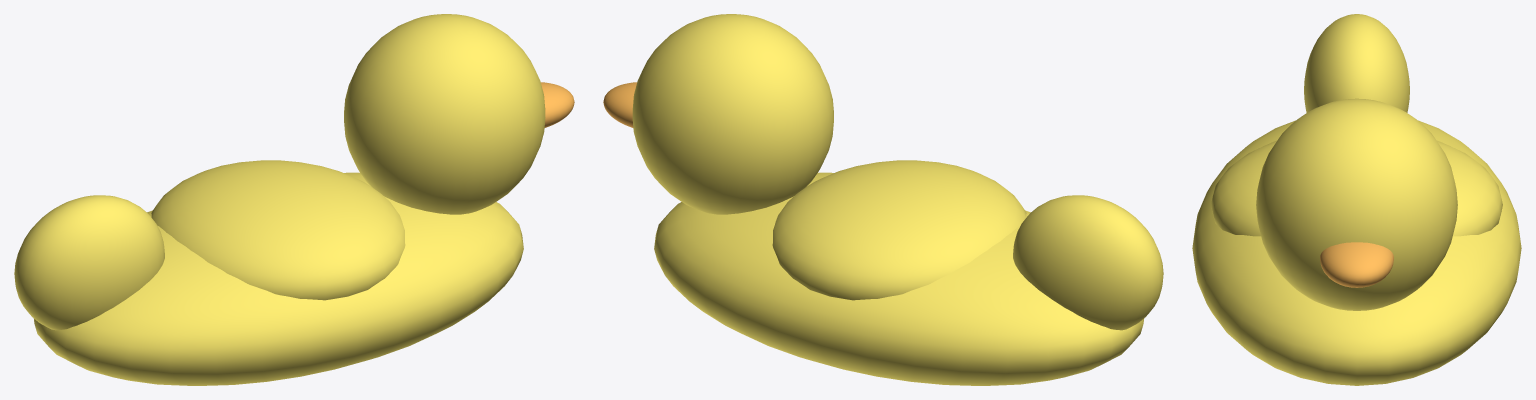
Rendered from duck.glb.
The picture shows the model from 3 angles, left to right: view 1: azimuth 30°, elevation 25°; view 2: azimuth 150°, elevation 25°; view 3: azimuth 270°, elevation 25°; orthographic projection. The views are drawn at different scales.
Parts seen in each view (by area): view 1: Sphere, Sphere.001, Sphere.006, Sphere.005, Sphere.002; view 2: Sphere, Sphere.001, Sphere.006, Sphere.005, Sphere.002; view 3: Sphere, Sphere.001, Sphere.005, Sphere.006, Sphere.002.
Part boxes in pixels (<box>): Sphere: <box>33,172,523,385</box>; Sphere.001: <box>344,14,545,214</box>; Sphere.006: <box>151,160,405,300</box>; Sphere.005: <box>14,195,164,330</box>; Sphere.002: <box>541,82,574,127</box>; Sphere: <box>654,172,1144,385</box>; Sphere.001: <box>632,14,833,214</box>; Sphere.006: <box>772,160,1026,300</box>; Sphere.005: <box>1013,195,1163,330</box>; Sphere.002: <box>603,82,636,127</box>; Sphere: <box>1192,120,1521,385</box>; Sphere.001: <box>1256,98,1457,310</box>; Sphere.005: <box>1304,14,1409,112</box>; Sphere.006: <box>1211,140,1502,236</box>; Sphere.002: <box>1320,242,1393,287</box>.
Bounding box in the file's own units: 2.49 × 1.23 × 1.24.
